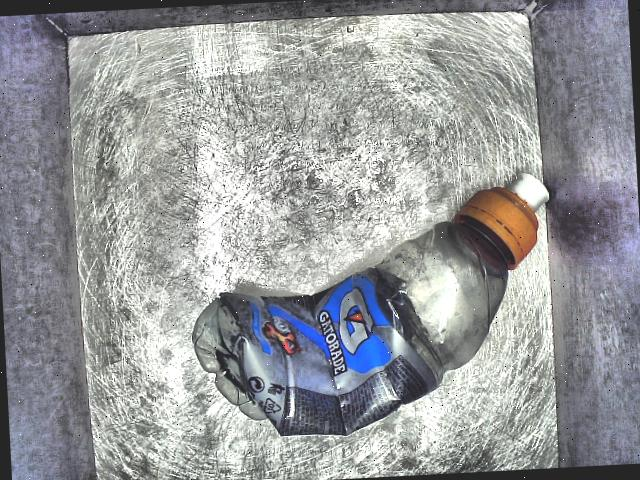Bottles: (159, 143, 568, 457)
